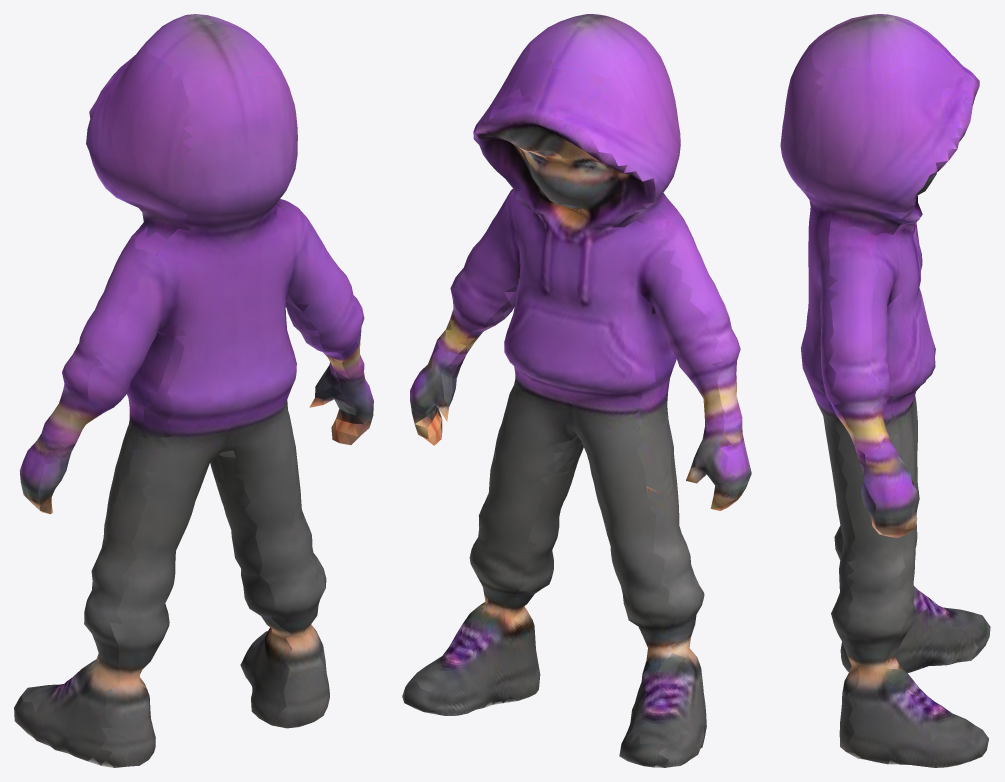
Rendered from shadow-toon-raw.glb.
3 views of the same model, side by side, from view 1: azimuth 30°, elevation 25°; view 2: azimuth 150°, elevation 25°; view 3: azimuth 270°, elevation 25° (orthographic). The views are drawn at different scales.
Visible parts, largest first — view 1: world; view 2: world; view 3: world.
Part boxes in pixels (bbox=[...]): world: bbox=[14, 14, 373, 767]; world: bbox=[402, 14, 751, 767]; world: bbox=[780, 14, 990, 767].
Bounding box in the file's own units: 0.4773 × 0.9503 × 0.2613.
1 material, 1 textured.
